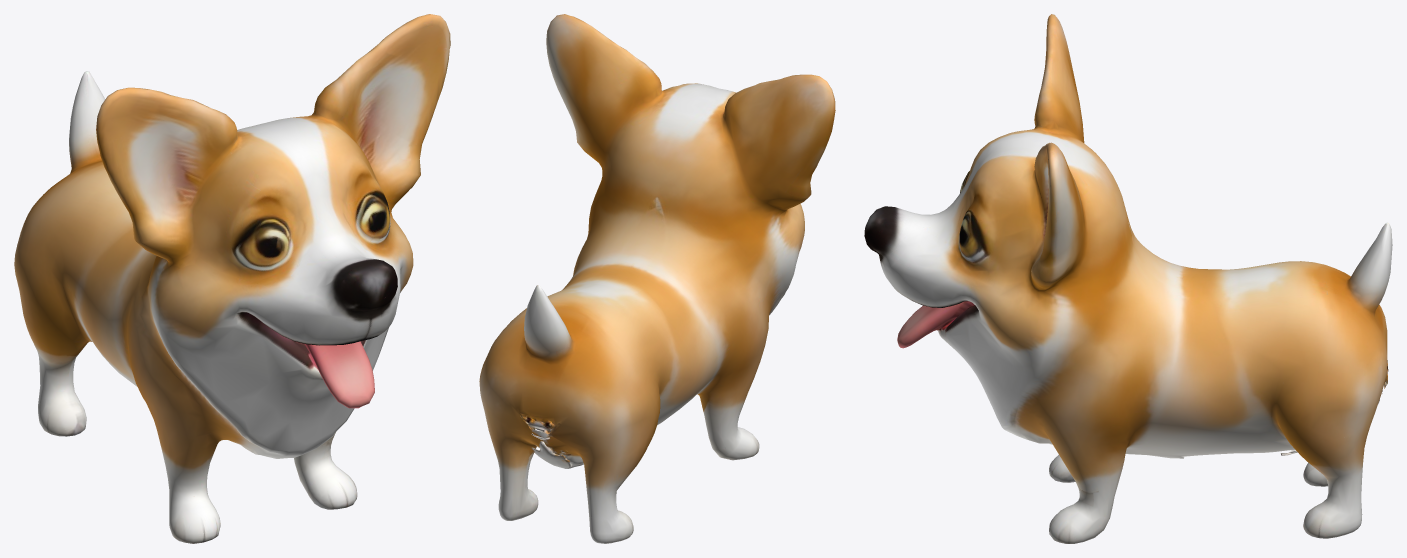
The picture shows the model from 3 angles, left to right: view 1: azimuth 30°, elevation 25°; view 2: azimuth 150°, elevation 25°; view 3: azimuth 270°, elevation 25°; orthographic projection. The views are drawn at different scales.
Parts seen in each view (by area): view 1: model; view 2: model; view 3: model.
Part boxes in pixels (bbox=[...]): model: bbox=[14, 14, 450, 543]; model: bbox=[479, 14, 835, 543]; model: bbox=[864, 14, 1392, 543].
Size of the model in its own units: 1.13 by 1.45 by 1.63.
1 material, 1 textured.
